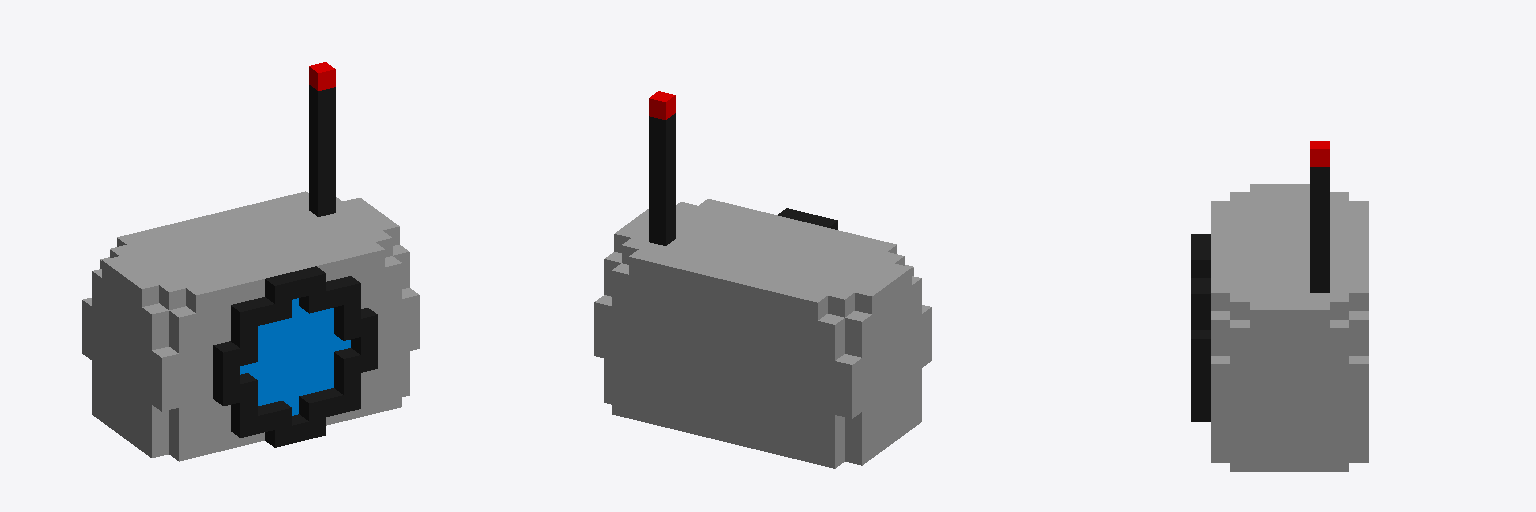
The picture shows the model from 3 angles: view 1: azimuth 30°, elevation 25°; view 2: azimuth 150°, elevation 25°; view 3: azimuth 270°, elevation 25°; orthographic projection.
Visible parts, largest first — view 1: object 1; view 2: object 1; view 3: object 1.
Boxes of the visible parts, <box> form: object 1: <box>82,62,419,461</box>; object 1: <box>594,91,931,468</box>; object 1: <box>1191,141,1368,471</box>.
Bounding box in the file's own units: 1.5 × 1.7 × 0.9.
Materials: 1 (1 with a texture image).